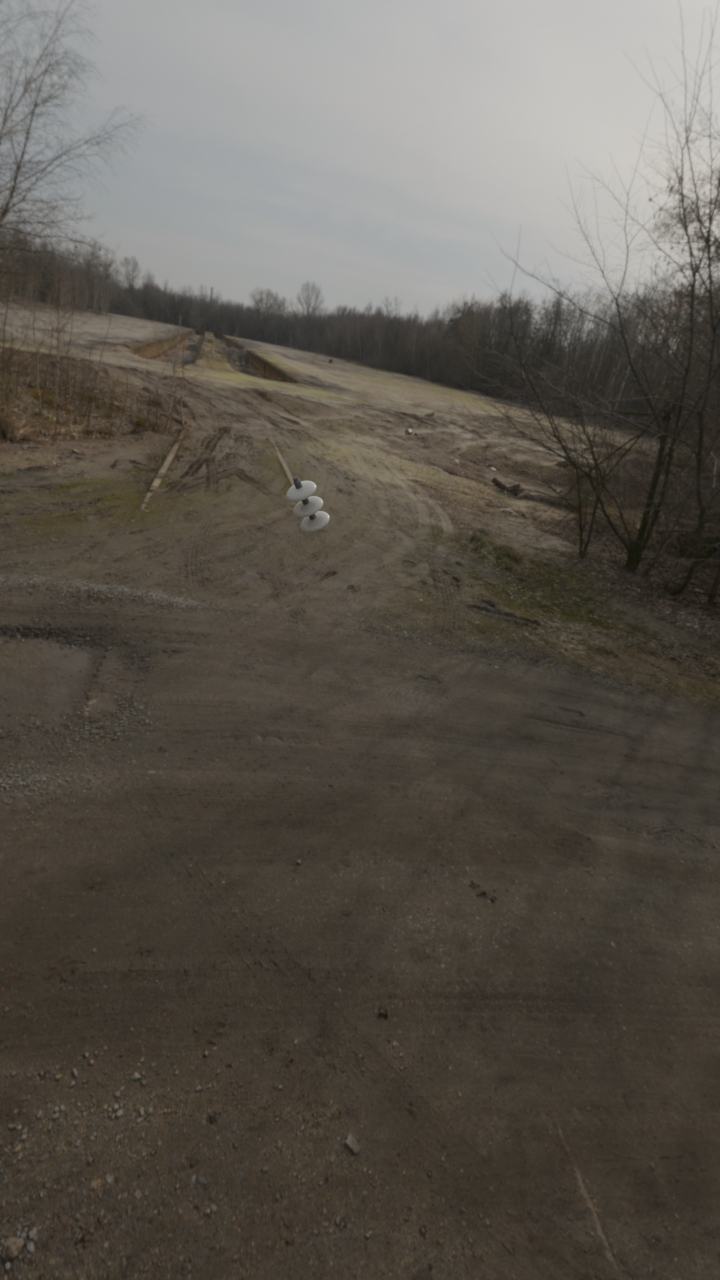ceramicinsulators: (287, 476, 330, 533)
